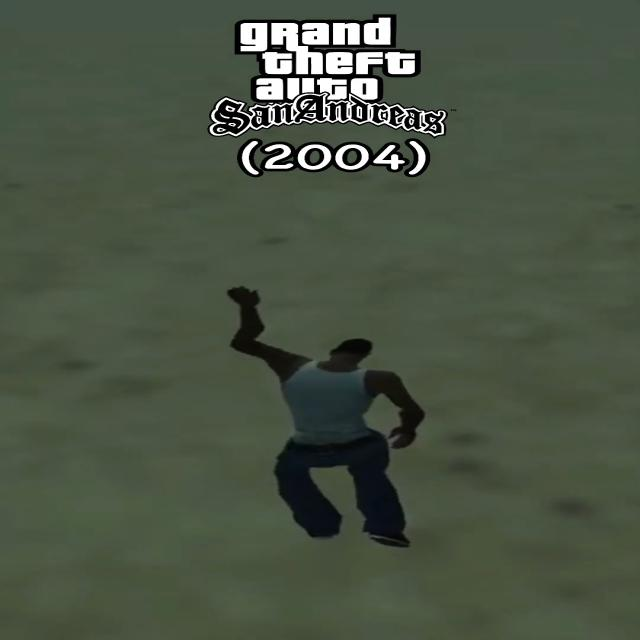drowning: (198, 270, 436, 572)
